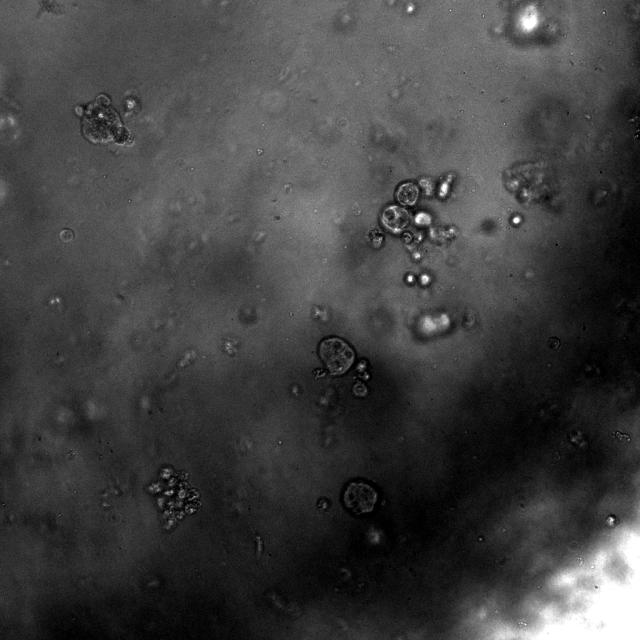organoid: (368, 173, 457, 266), (501, 154, 567, 213), (74, 93, 141, 146), (314, 335, 371, 397), (148, 466, 201, 530), (341, 478, 381, 517), (402, 269, 433, 288), (58, 228, 74, 243), (316, 496, 331, 511), (509, 212, 524, 227), (605, 514, 619, 527), (548, 336, 561, 350)
